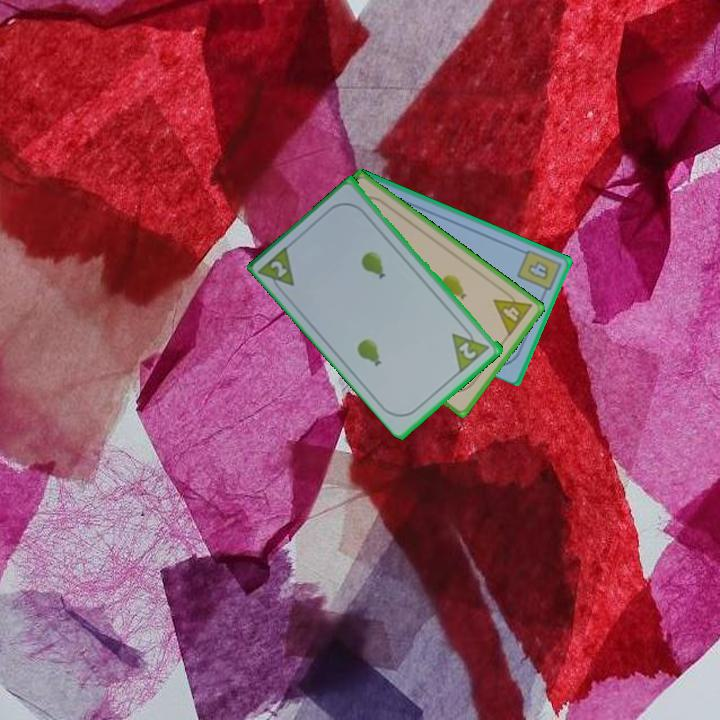2p: (455, 338, 480, 362), (267, 257, 291, 280)
4b: (514, 246, 564, 299)
4p: (490, 285, 535, 339)
